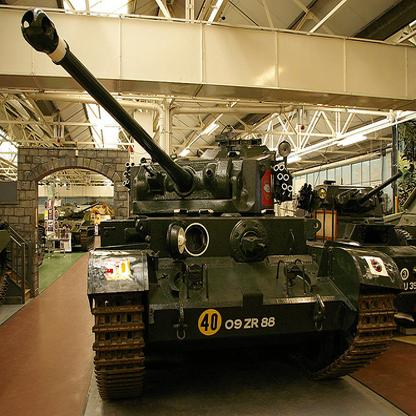Tank: (78, 123, 400, 399)
